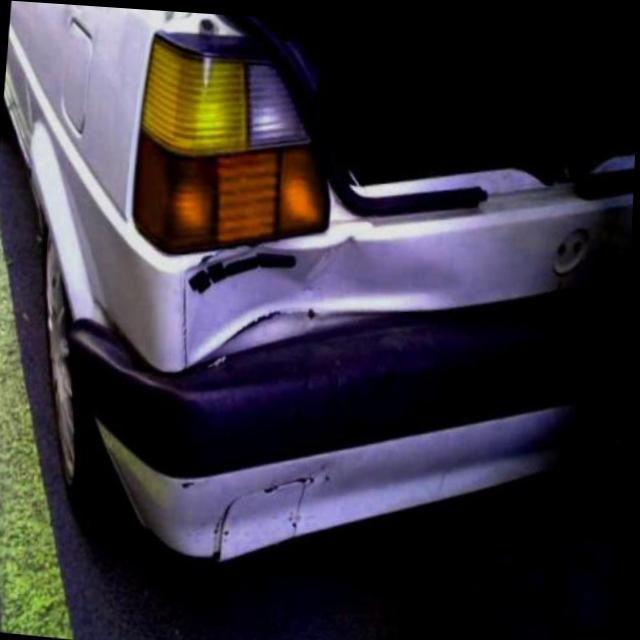Car-Damage: (175, 214, 444, 386), (210, 461, 321, 564)
